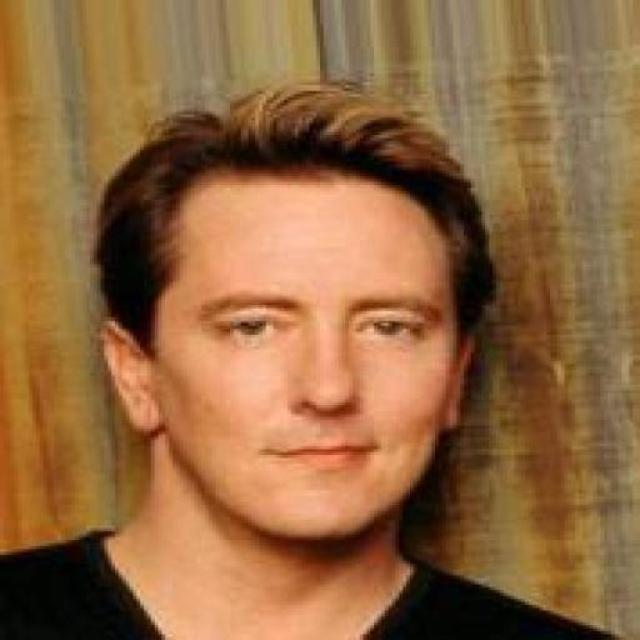bareface: (153, 185, 441, 529)
